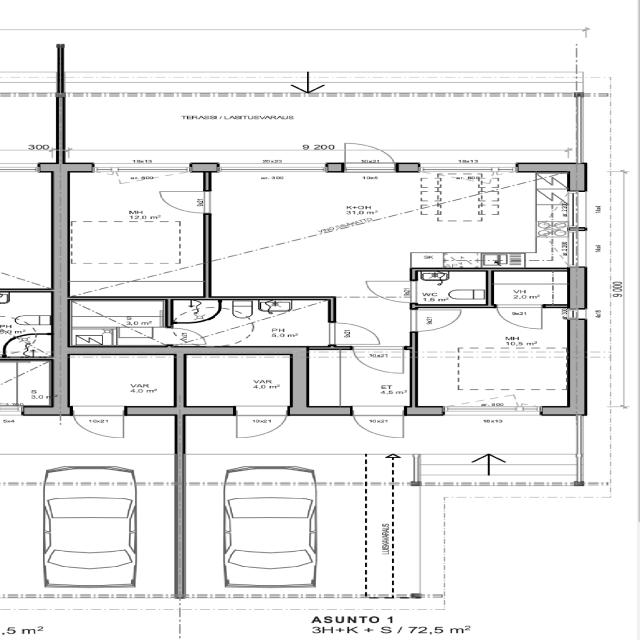door: (228, 407, 291, 441), (349, 406, 409, 441), (70, 406, 131, 440), (348, 346, 413, 374), (340, 141, 400, 171), (154, 188, 215, 215), (408, 306, 464, 333), (361, 278, 417, 304), (327, 321, 382, 346), (495, 304, 545, 330)
window: (404, 160, 530, 173), (211, 162, 336, 175), (433, 405, 554, 418), (95, 162, 195, 174), (566, 190, 587, 228), (0, 402, 25, 414)
zone: (206, 170, 561, 273), (66, 168, 209, 298), (415, 304, 578, 410), (41, 490, 140, 589), (219, 494, 319, 590), (163, 297, 333, 347), (0, 172, 57, 290), (183, 352, 295, 410), (66, 354, 178, 409), (490, 270, 579, 306), (0, 360, 57, 410), (414, 269, 492, 305), (0, 291, 53, 333), (0, 332, 51, 358)
